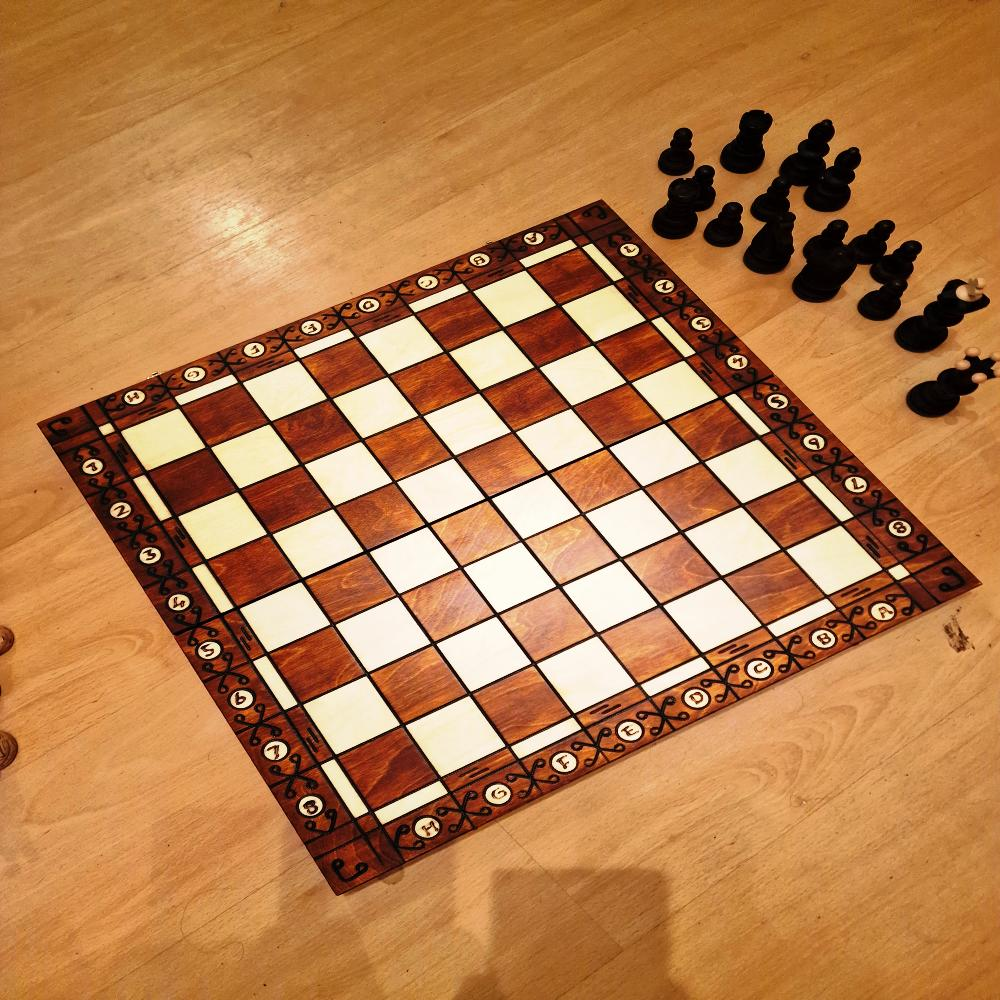chessfield: (337, 728, 442, 813), (402, 695, 508, 777), (469, 667, 573, 750), (598, 608, 703, 688), (533, 636, 637, 716), (298, 677, 400, 758), (369, 645, 472, 725), (722, 551, 827, 628), (267, 626, 368, 706), (435, 617, 535, 696), (333, 596, 434, 674), (497, 586, 599, 663), (662, 579, 764, 655), (558, 562, 660, 638), (398, 570, 498, 644), (782, 525, 882, 599), (620, 533, 719, 606), (681, 508, 781, 580), (643, 464, 743, 535), (461, 540, 558, 613), (236, 581, 332, 654), (207, 535, 303, 608), (522, 515, 619, 587), (300, 554, 397, 626), (271, 510, 367, 582), (581, 491, 678, 562), (741, 480, 838, 549), (368, 526, 462, 596), (239, 465, 334, 534), (700, 436, 795, 505), (333, 482, 428, 550), (428, 502, 523, 570), (176, 494, 268, 564), (143, 450, 236, 519), (394, 458, 488, 526), (490, 473, 584, 541), (209, 423, 302, 491), (548, 450, 643, 516), (607, 423, 701, 488), (454, 432, 546, 498), (270, 401, 362, 467), (302, 443, 392, 510), (419, 394, 511, 459), (361, 417, 452, 482), (571, 386, 663, 450), (388, 354, 480, 418), (667, 399, 757, 464), (482, 368, 572, 433), (514, 410, 605, 474), (119, 408, 207, 474), (180, 385, 270, 449), (595, 319, 684, 383), (331, 376, 420, 440), (445, 329, 535, 392), (537, 346, 625, 410), (630, 360, 718, 423), (505, 306, 593, 369), (297, 339, 386, 401), (241, 360, 328, 423), (560, 285, 647, 347), (414, 293, 501, 353), (356, 316, 444, 375), (470, 268, 556, 328), (527, 247, 611, 306)
